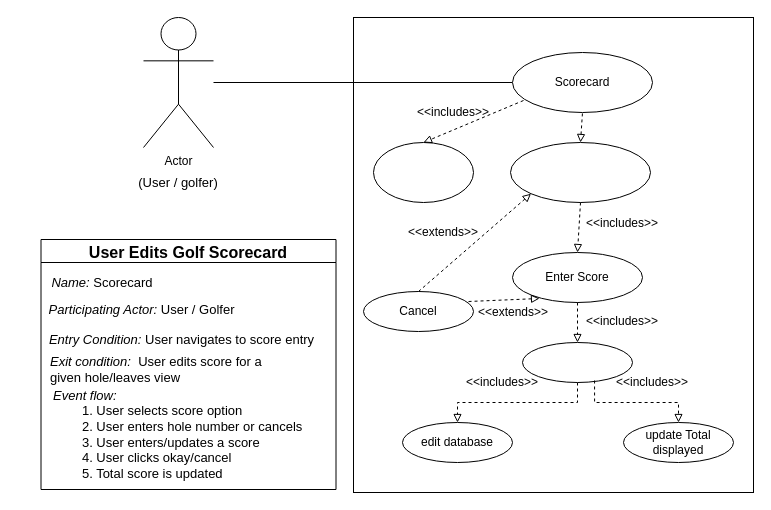
Some shapes in this 771 by 510 pixel diagram are drawn without their labels. Each missing label, with the centre of its shape:
Confirmation: the point at 577,362
Enter Hole Number: the point at 580,172
View Card & Current Total: the point at 423,172
